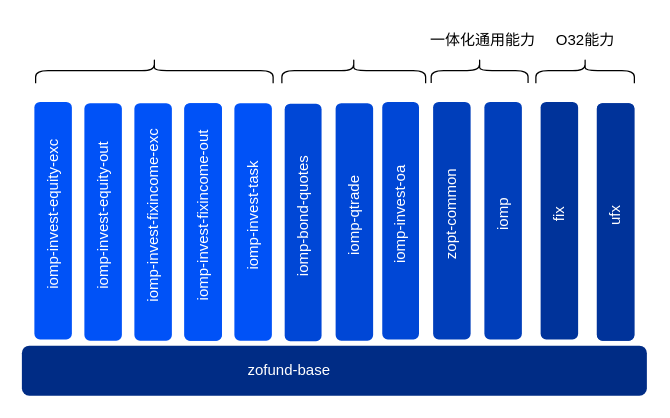
The diagram is 670 pixels wide and 418 high, and some of its shapes have lost their labels. The centre of each missing label's shape, as x and y in pixels:
"投资交易业务" goes at (x=153, y=70).
"投资交易能力延申" goes at (x=353, y=70).
